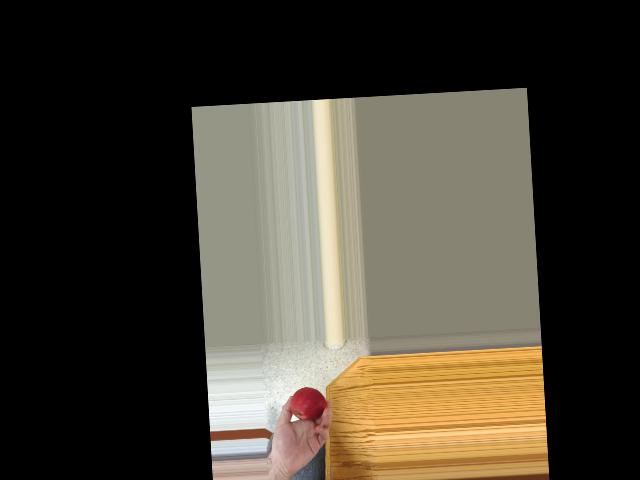apple: (287, 384, 328, 421)
